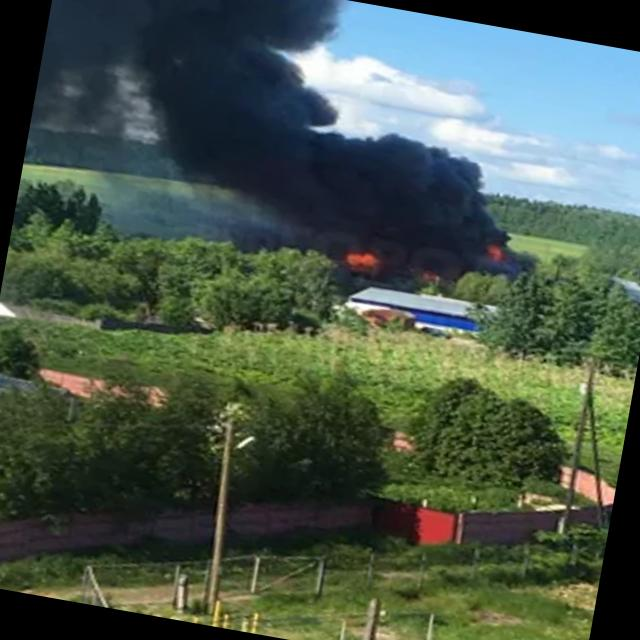Smoke: (11, 0, 582, 319)
